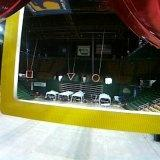Orange_Circle_GShape: (91, 74, 100, 82)
Orange_Square_GShape: (25, 69, 34, 79)
Orange_Triangle_Gshape: (66, 72, 75, 81)
